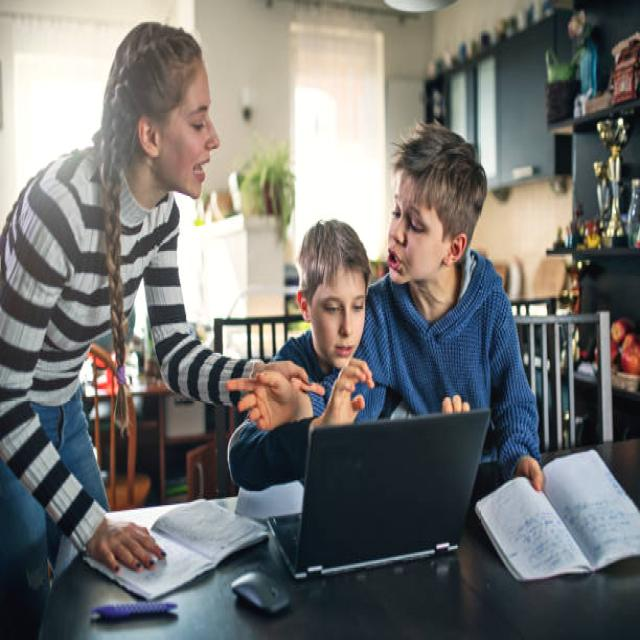fight: (245, 109, 502, 581)
